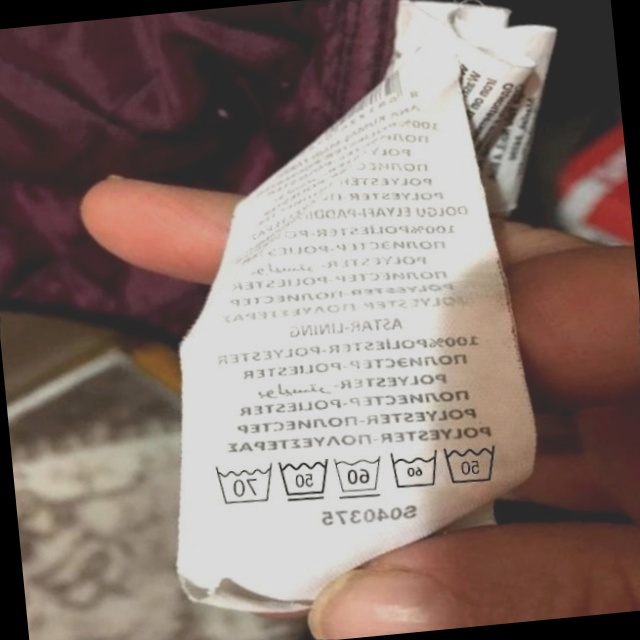50C: (436, 432, 506, 493), (271, 450, 336, 509)
60C: (326, 447, 387, 504), (382, 442, 444, 498)
70C: (205, 455, 277, 512)
